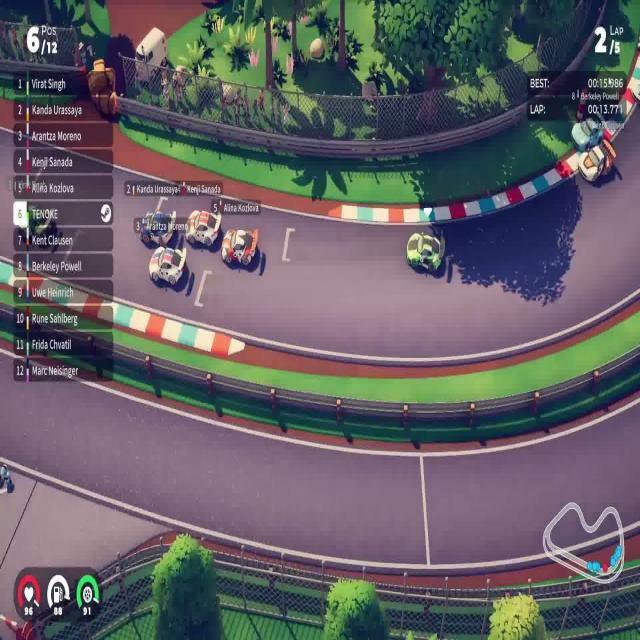car: (148, 231, 187, 288), (139, 196, 176, 248), (184, 201, 222, 249), (405, 229, 445, 274), (220, 226, 259, 268), (578, 143, 617, 182)
